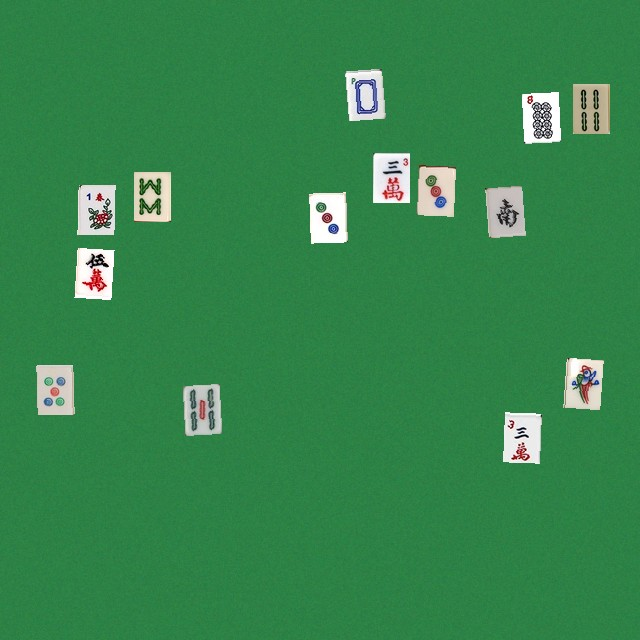tile: (485, 185, 522, 235), (36, 364, 73, 414), (563, 357, 600, 407), (521, 92, 558, 142), (77, 184, 114, 234), (309, 192, 346, 242), (572, 83, 609, 133), (372, 152, 409, 202), (133, 171, 170, 221), (345, 68, 382, 118), (74, 247, 111, 297), (182, 384, 219, 434), (416, 165, 453, 215), (503, 412, 540, 462)
